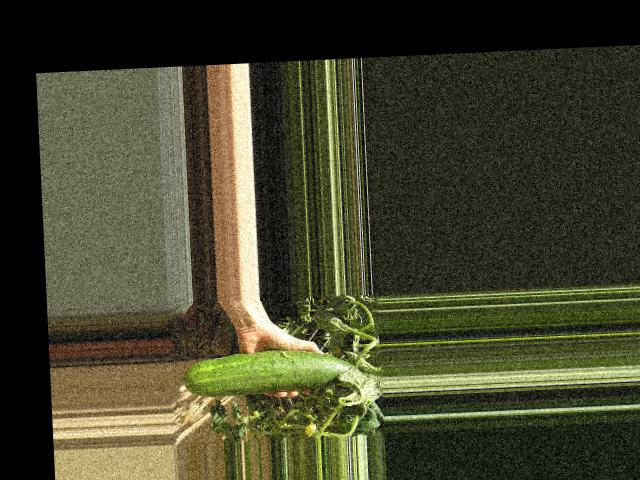cucumber: (181, 346, 358, 398)
